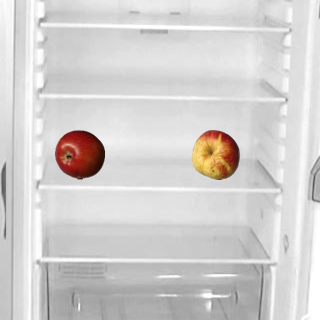Apple Braeburn: (54, 129, 104, 179)
Apple Red Yellow 1: (190, 129, 240, 179)
